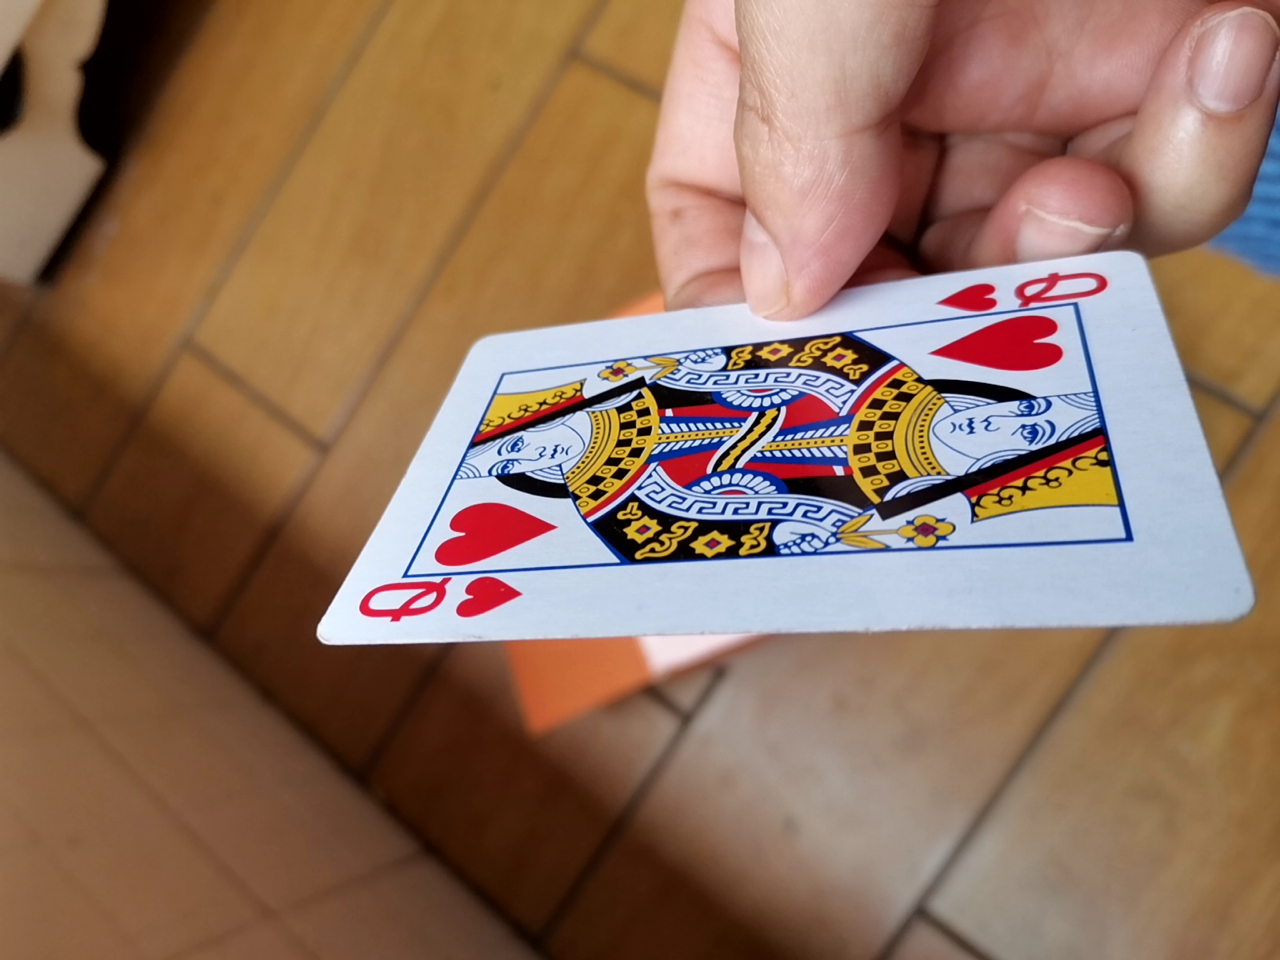hx q: (287, 253, 1240, 664)
